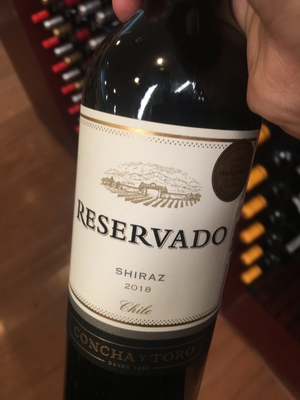reservado shiraz: (67, 16, 257, 400)
